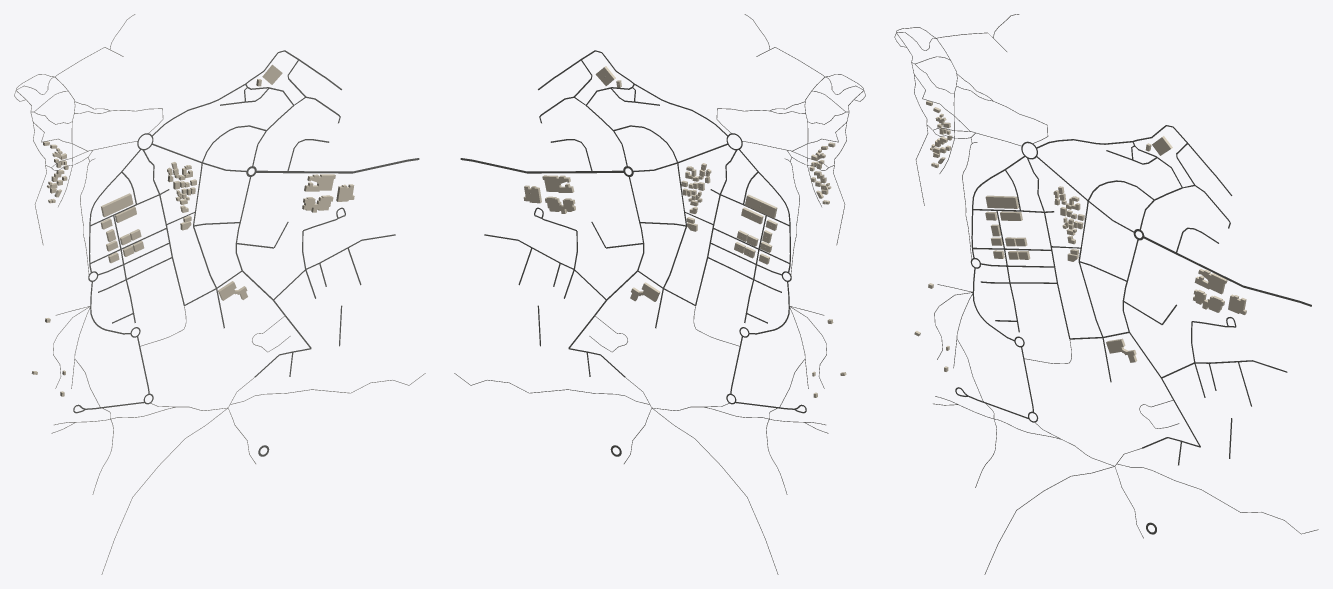
File: historic-palestine-07_31_3490_3253.glb
3 renders of one model, left to right at view 1: azimuth 30°, elevation 25°; view 2: azimuth 150°, elevation 25°; view 3: azimuth 330°, elevation 25°, orthographic. The views are drawn at different scales.
Bounding box in the file's own units: 1031 × 1323 × 8.7.
